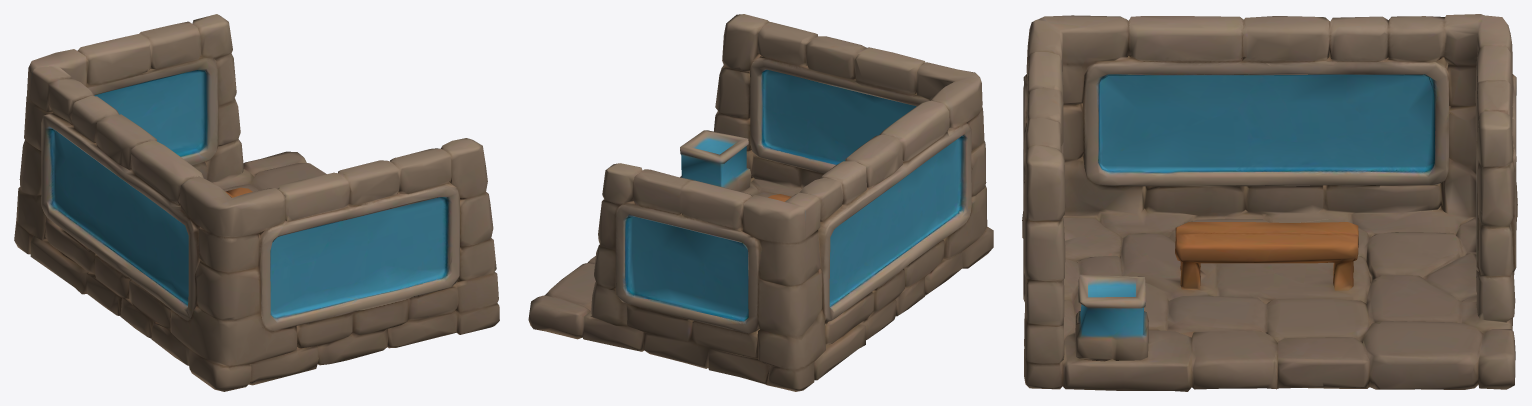
Rendered from room-aquarium.glb.
The picture shows the model from 3 angles, left to right: view 1: azimuth 30°, elevation 25°; view 2: azimuth 150°, elevation 25°; view 3: azimuth 270°, elevation 25°; orthographic projection. The views are drawn at different scales.
Visible parts, largest first — view 1: tripo_node_68f40bc9-6024-4d6d-bca2-d99a3c54135e; view 2: tripo_node_68f40bc9-6024-4d6d-bca2-d99a3c54135e; view 3: tripo_node_68f40bc9-6024-4d6d-bca2-d99a3c54135e.
Part boxes in pixels (x1,y1,x2,y2): tripo_node_68f40bc9-6024-4d6d-bca2-d99a3c54135e: (14,14,499,391); tripo_node_68f40bc9-6024-4d6d-bca2-d99a3c54135e: (528,14,993,391); tripo_node_68f40bc9-6024-4d6d-bca2-d99a3c54135e: (1022,14,1517,391).
Bounding box in the file's own units: 0.7975 × 0.4919 × 1.
Materials: 1 (1 with a texture image).
